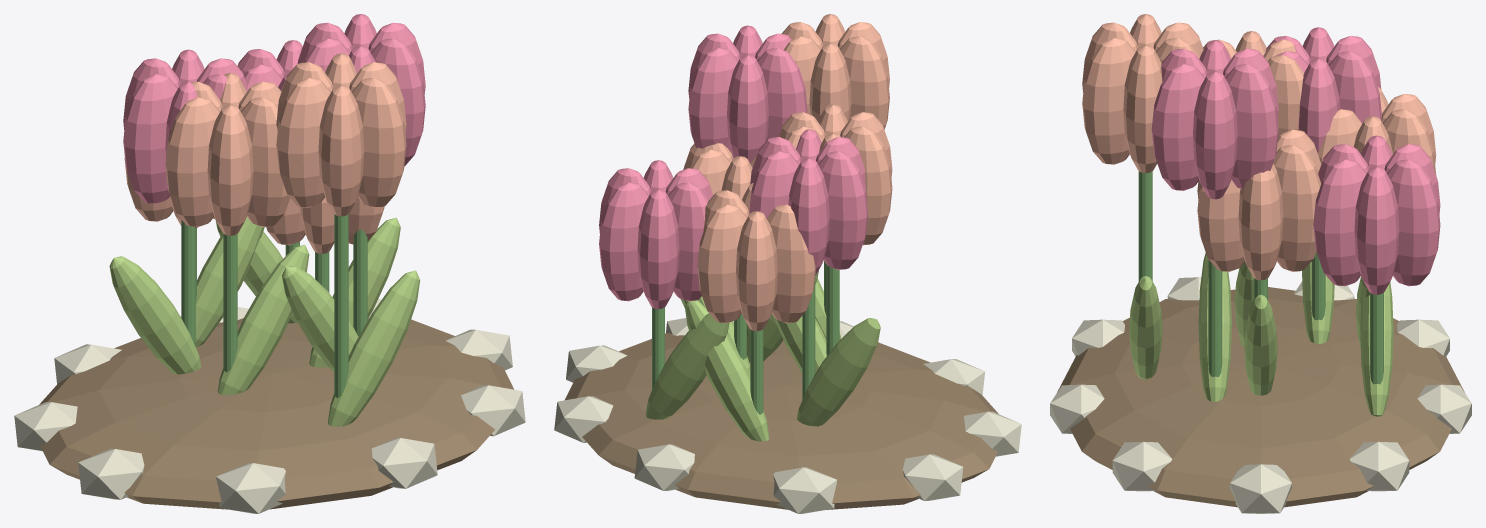
Rendered from Tulip3.fbx.
3 renders of one model, left to right at view 1: azimuth 30°, elevation 25°; view 2: azimuth 150°, elevation 25°; view 3: azimuth 270°, elevation 25°, orthographic. The views are drawn at different scales.
Parts seen in each view (by area): view 1: Oval garden bed.002, Upright stem leaf.010, Upright stem leaf.009, Upright tulip petal.063, Upright tulip petal.065, Upright tulip petal.075, Upright tulip petal.057, Upright stem leaf.012, Upright tulip petal.076, Upright tulip petal.064, Upright tulip petal.077, Upright stem leaf.013 (+35 smaller); view 2: Oval garden bed.002, Upright stem leaf.009, Upright tulip petal.057, Upright tulip petal.067, Upright tulip petal.085, Upright tulip petal.068, Upright tulip petal.086, Upright stem leaf.011, Upright stem leaf.014, Upright tulip petal.087, Upright tulip petal.079, Upright tulip petal.080 (+37 smaller); view 3: Oval garden bed.002, Upright tulip petal.071, Upright tulip petal.065, Upright tulip petal.083, Upright tulip petal.067, Upright tulip petal.066, Upright tulip petal.078, Upright tulip petal.079, Upright tulip petal.049, Upright tulip petal.048, Upright tulip petal.060, Upright tulip petal.053 (+37 smaller).
Boxes of the visible parts, x1,y1,x2,y2 form: Oval garden bed.002: (39, 318, 513, 509); Upright stem leaf.010: (327, 270, 420, 426); Upright stem leaf.009: (109, 256, 201, 374); Upright tulip petal.063: (276, 78, 330, 207); Upright tulip petal.065: (351, 78, 406, 207); Upright tulip petal.075: (165, 97, 220, 226); Upright tulip petal.057: (123, 74, 177, 203); Upright stem leaf.012: (217, 245, 309, 395); Upright tulip petal.076: (207, 104, 253, 235); Upright tulip petal.064: (318, 85, 364, 216); Upright tulip petal.077: (241, 97, 289, 227); Upright stem leaf.013: (282, 266, 358, 372); Oval garden bed.002: (565, 333, 998, 509); Upright stem leaf.009: (797, 318, 880, 426); Upright tulip petal.057: (818, 151, 868, 269); Upright tulip petal.067: (599, 182, 648, 301); Upright tulip petal.085: (697, 204, 747, 323); Upright tulip petal.068: (637, 189, 679, 309); Upright tulip petal.086: (736, 211, 777, 331); Upright stem leaf.011: (645, 313, 729, 419); Upright stem leaf.014: (685, 300, 769, 441); Upright tulip petal.087: (766, 204, 815, 323); Upright tulip petal.079: (688, 48, 738, 151); Upright tulip petal.080: (727, 54, 768, 163); Oval garden bed.002: (1057, 287, 1464, 507); Upright tulip petal.071: (1313, 159, 1366, 286); Upright tulip petal.065: (1082, 38, 1135, 164); Upright tulip petal.083: (1151, 64, 1204, 190); Upright tulip petal.067: (1387, 159, 1440, 286); Upright tulip petal.066: (1354, 166, 1399, 294); Upright tulip petal.078: (1193, 71, 1237, 199); Upright tulip petal.079: (1225, 64, 1278, 188); Upright tulip petal.049: (1273, 145, 1321, 271); Upright tulip petal.048: (1238, 163, 1283, 280); Upright tulip petal.060: (1123, 45, 1162, 173); Upright tulip petal.053: (1197, 180, 1244, 271).
Bounding box in the file's own units: 171 × 148 × 139.
